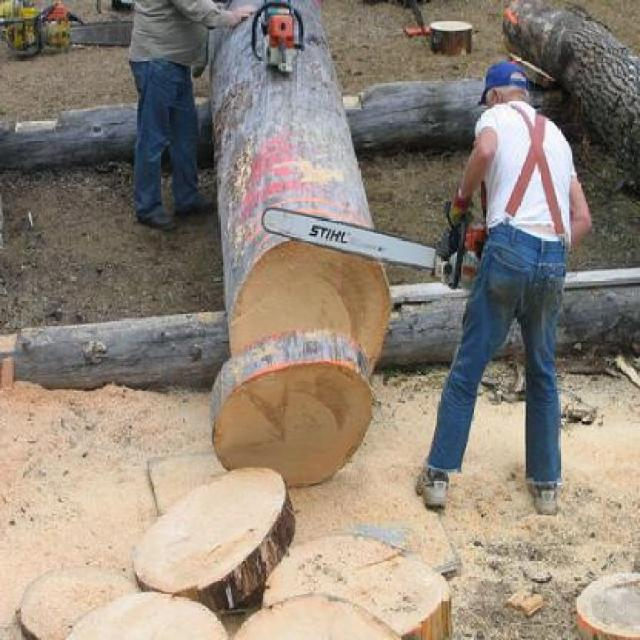Chainsaw: (263, 190, 489, 298), (244, 0, 312, 72)
